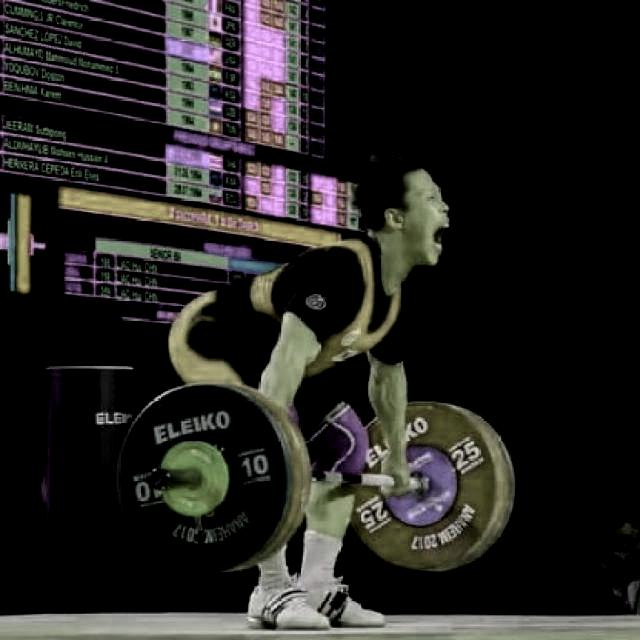barbell: (111, 377, 292, 577)
